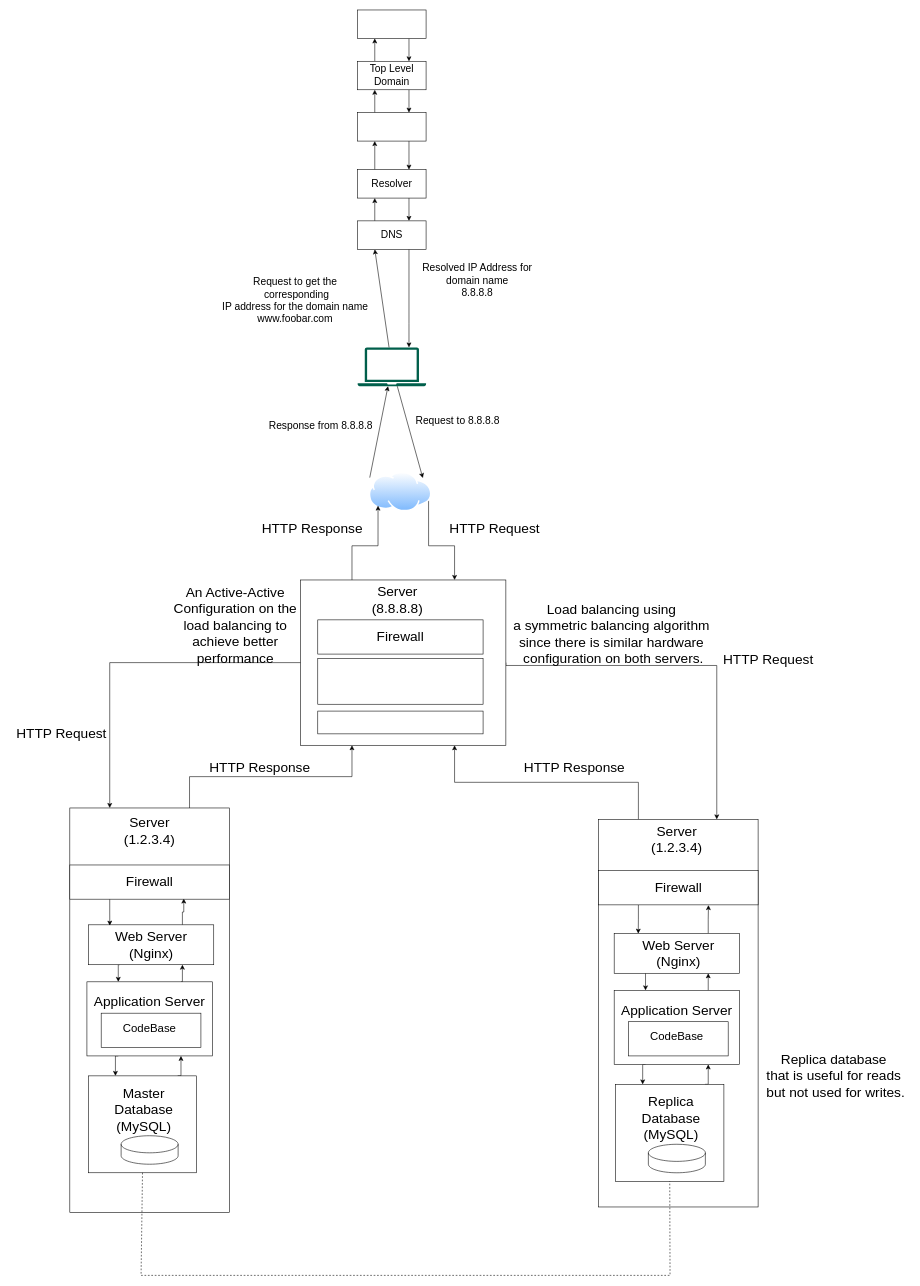
Image size: 920x1286. Some labels were removed from this diagram. The box of each missing label's shape, as (x1, y1, x2, y2) in pixels:
Internet: (369, 472, 431, 511)
Load Balancer (HAProxy): (317, 658, 483, 704)
Name Server: (357, 9, 426, 38)
Root: (357, 112, 426, 141)
SSL Certificate: (317, 711, 483, 734)
